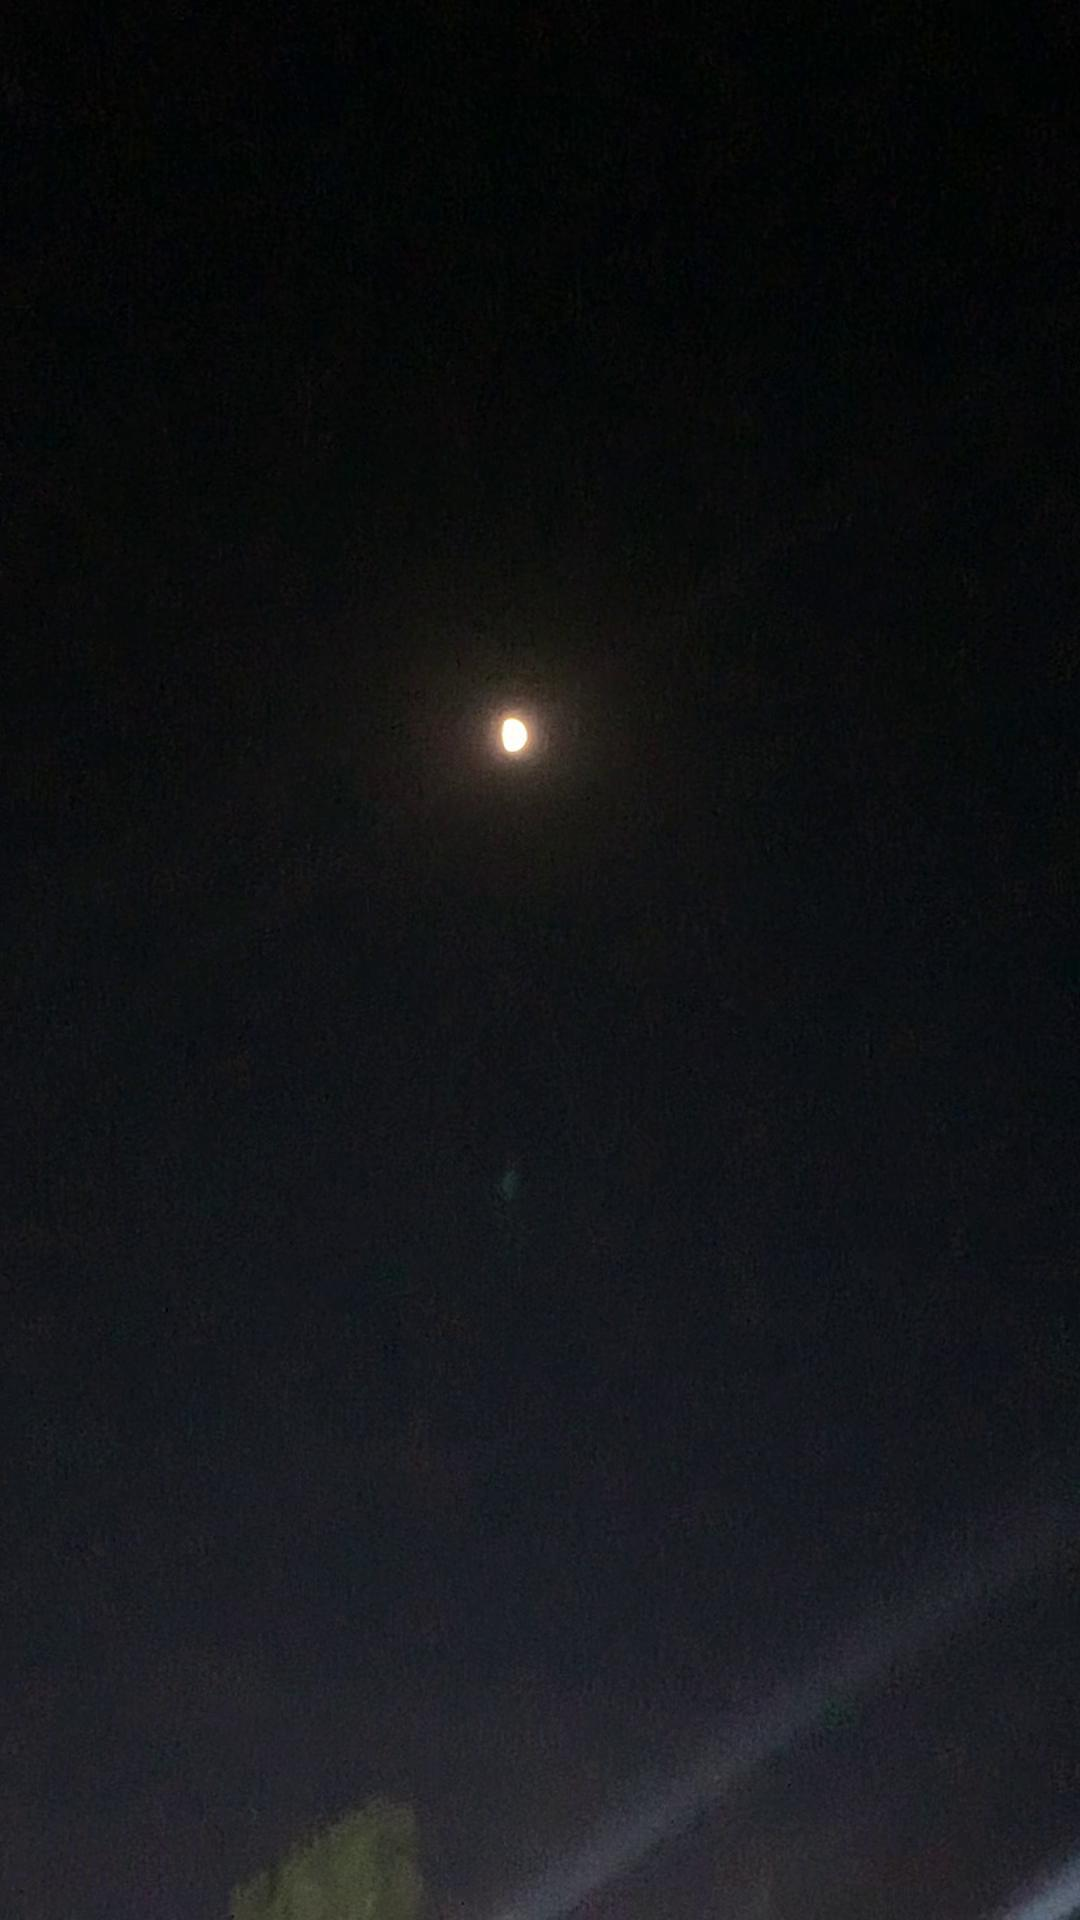moon: (458, 690, 546, 782)
